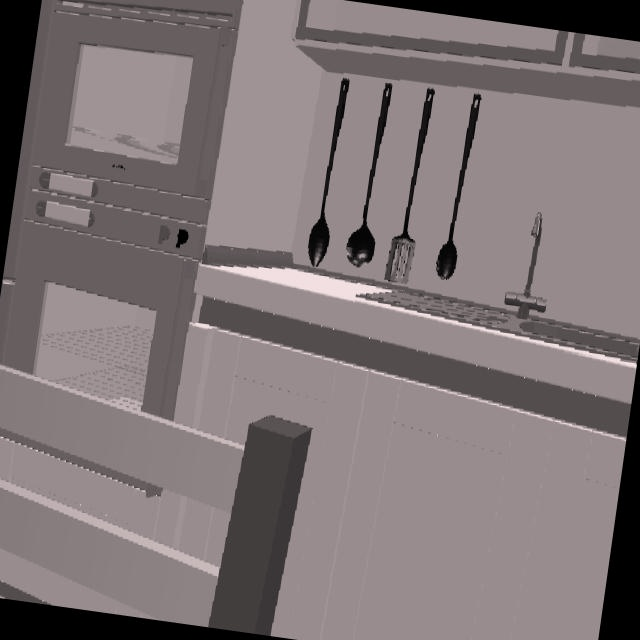cabinet: (173, 324, 626, 640), (294, 0, 640, 109)
chair: (0, 366, 311, 636)
countertop: (195, 246, 637, 438)
microwave: (31, 0, 243, 224)
oven: (8, 189, 206, 420)
sink: (355, 213, 640, 363)
